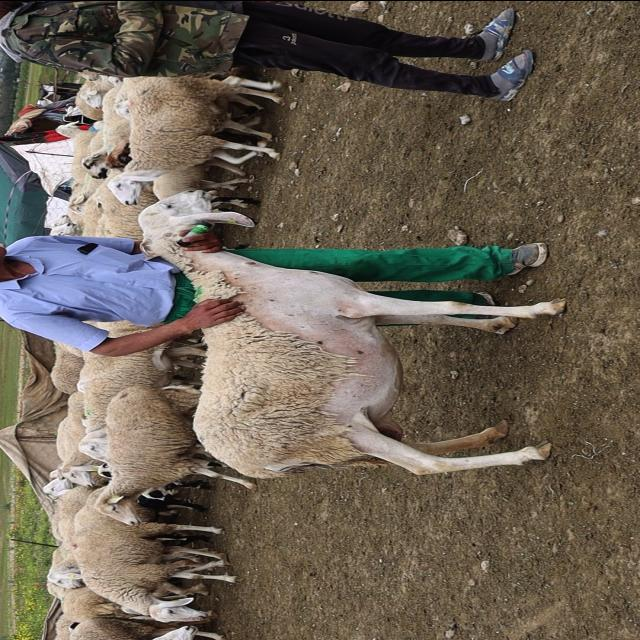Score_2: (138, 190, 564, 478)
